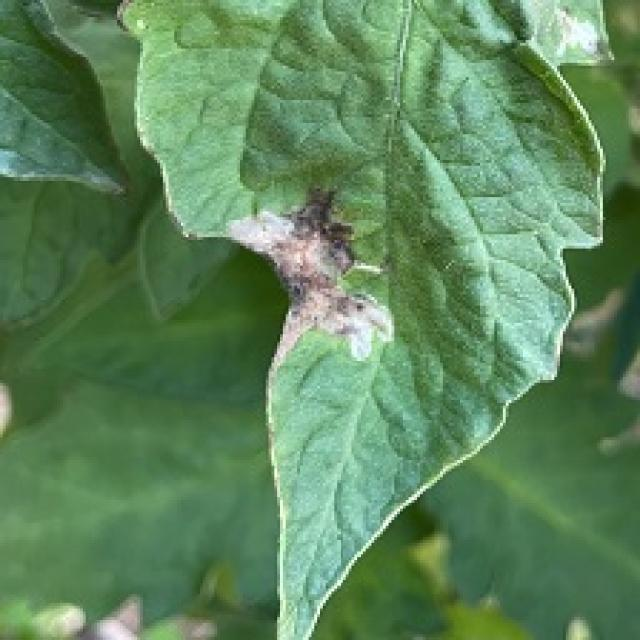Tuta absoluta: (226, 181, 397, 382)
